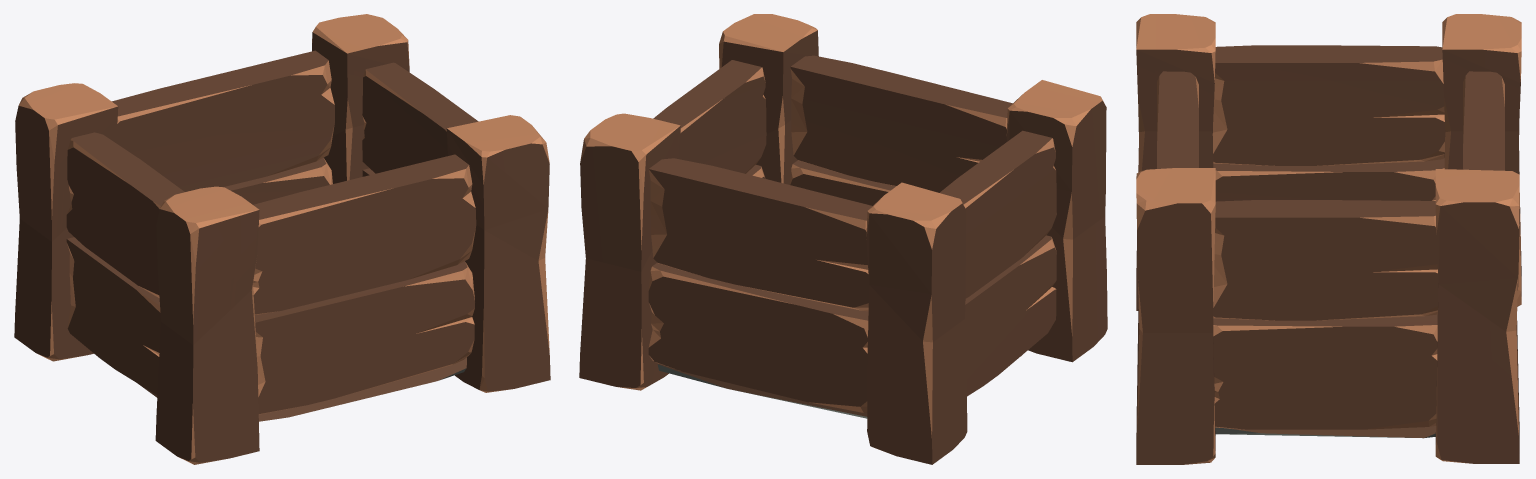
The picture shows the model from 3 angles, left to right: view 1: azimuth 30°, elevation 25°; view 2: azimuth 150°, elevation 25°; view 3: azimuth 270°, elevation 25°; orthographic projection. The views are drawn at different scales.
Parts seen in each view (by area): view 1: Box; view 2: Box; view 3: Box.
Boxes of the visible parts, x1=… form: Box: x1=14, y1=14, x2=550, y2=464; Box: x1=579, y1=14, x2=1107, y2=464; Box: x1=1136, y1=14, x2=1521, y2=464.
Size of the model in its own units: 46.89 by 30.18 by 40.31.
